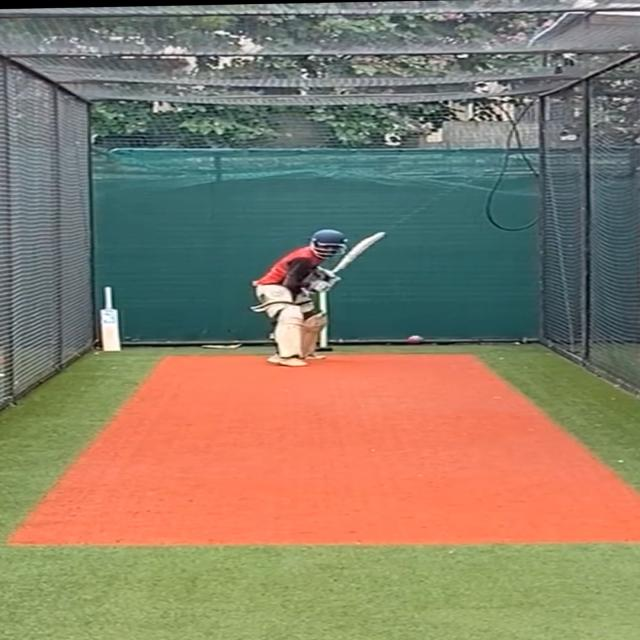ball: (402, 332, 428, 346)
